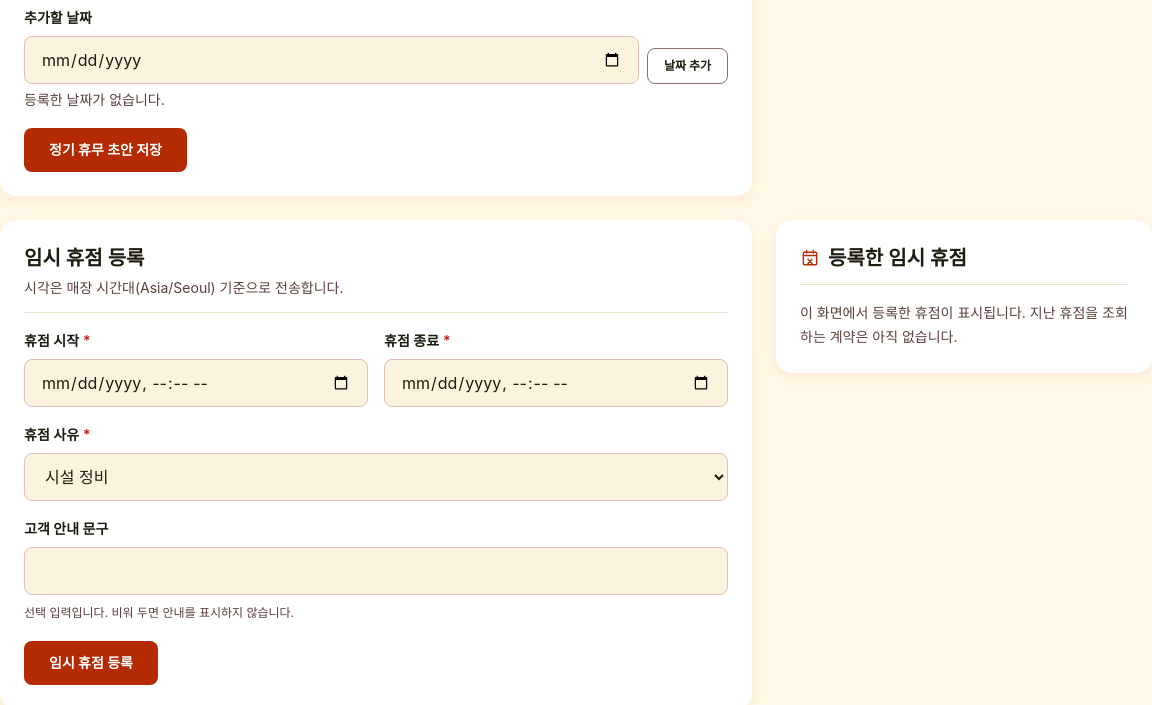
Scenario: 휴무·휴점 화면 › 등록 후에만 종료 시각 변경·취소를 연다
(page scrolled)
Expected: the button "종료 시각 변경" is not shown
In the field labelled "휴점 시작": (196, 383) [24, 359, 368, 407], type "2026-09-01T00:00"
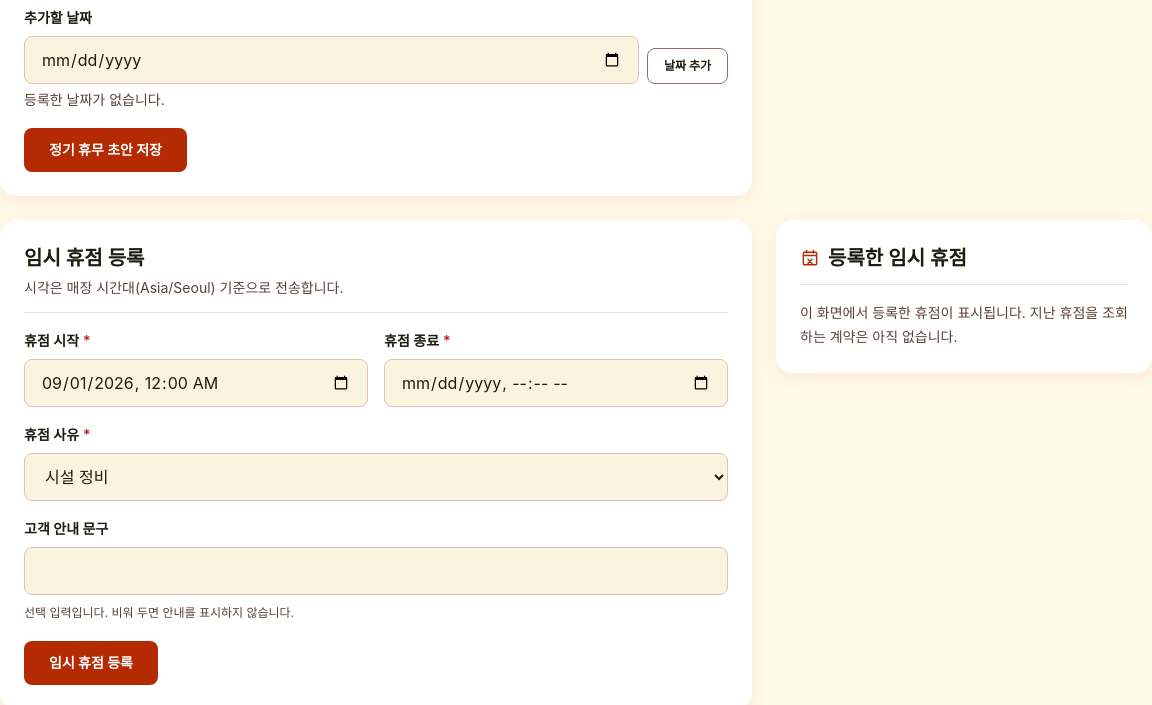
In the field labelled "휴점 종료": (556, 383) [384, 359, 728, 407], type "2026-09-02T00:00"
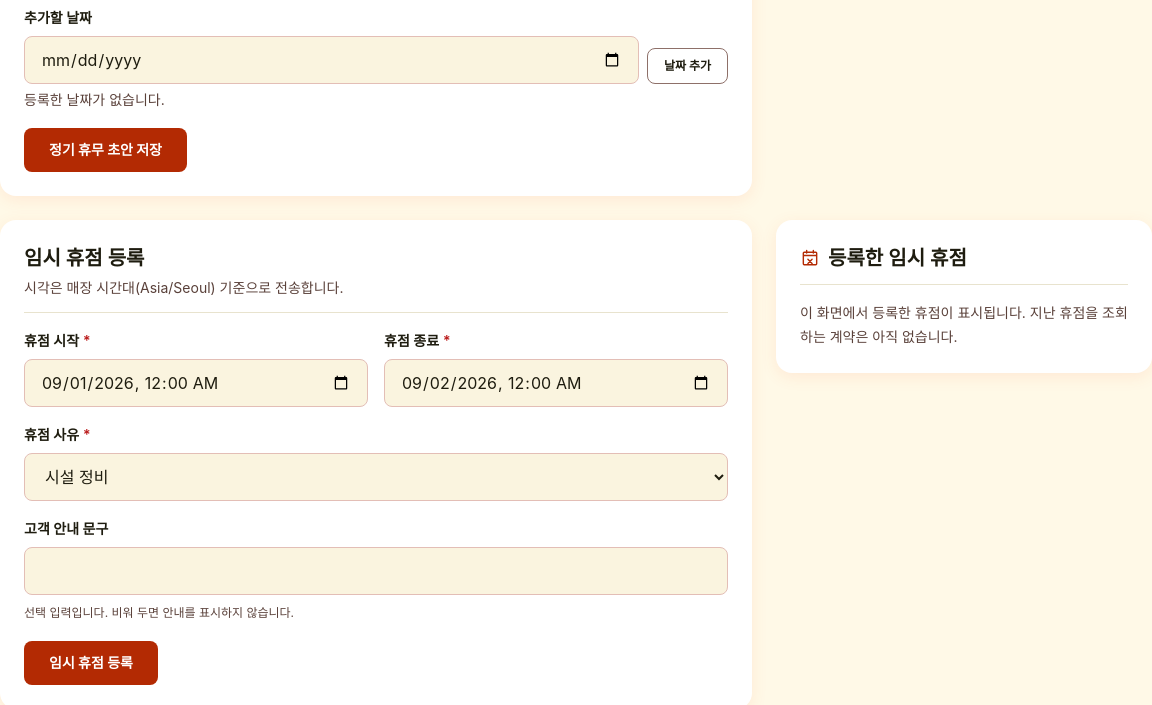
Click the button "임시 휴점 등록": click(91, 663) [24, 641, 158, 685]
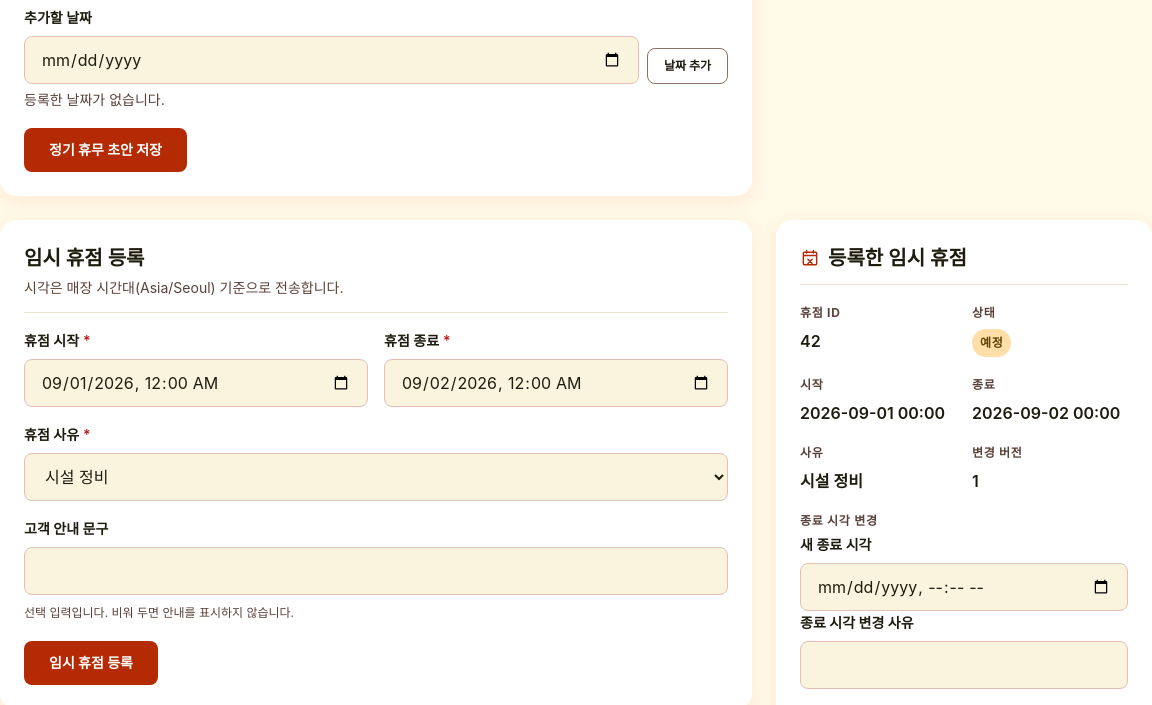
Expected: the text "예정" is shown, [972, 329, 1011, 357]
